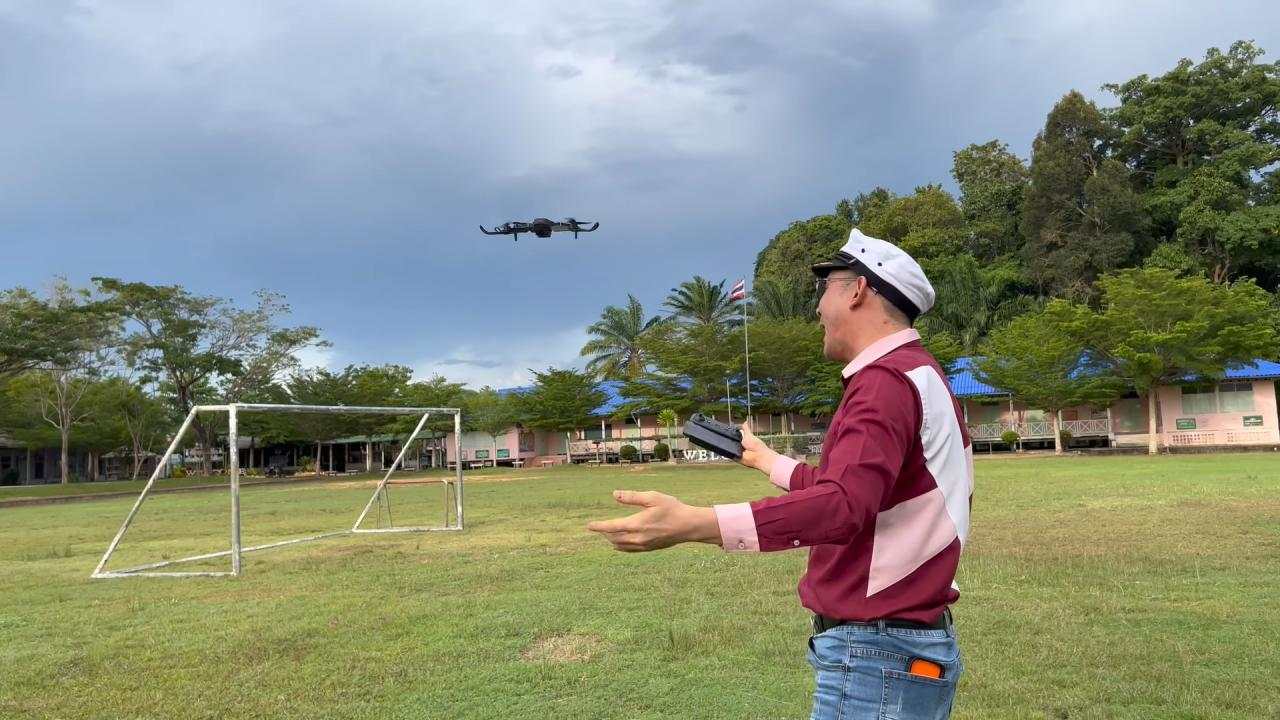Drone: (470, 209, 606, 248)
